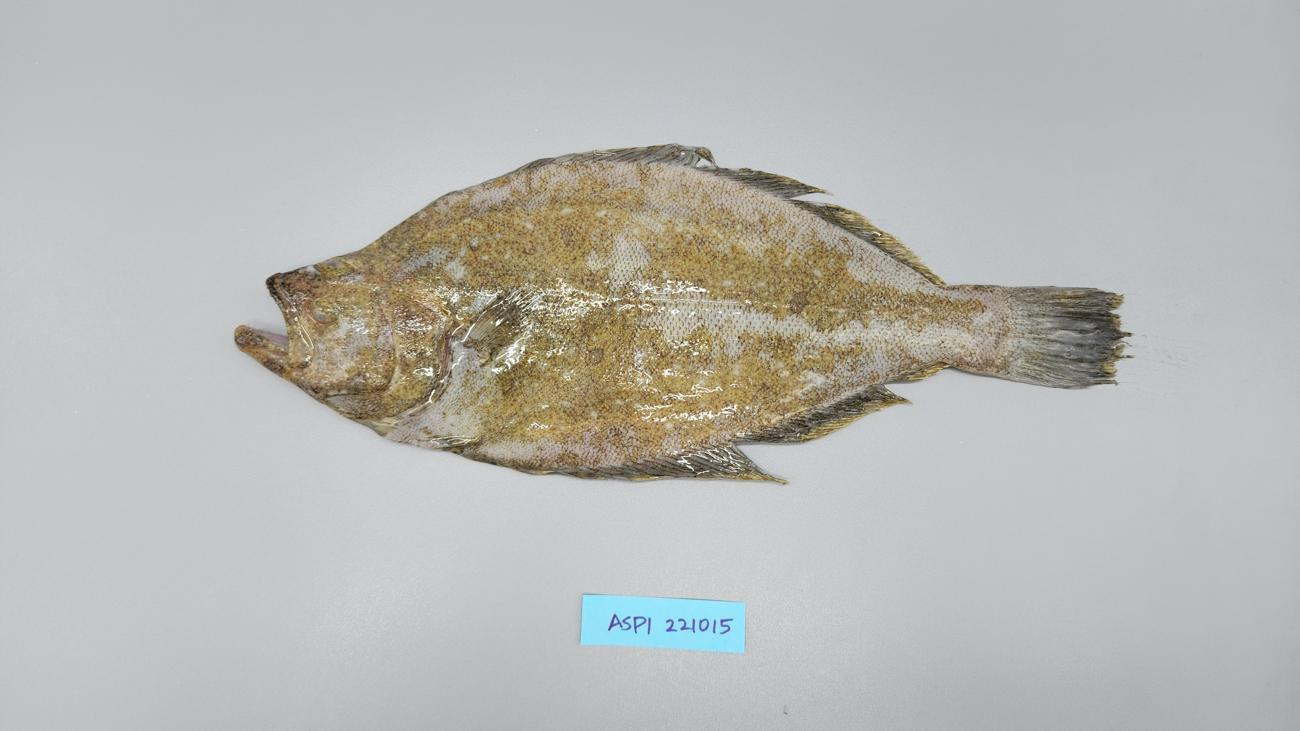SPOUY: (229, 137, 1138, 495)
